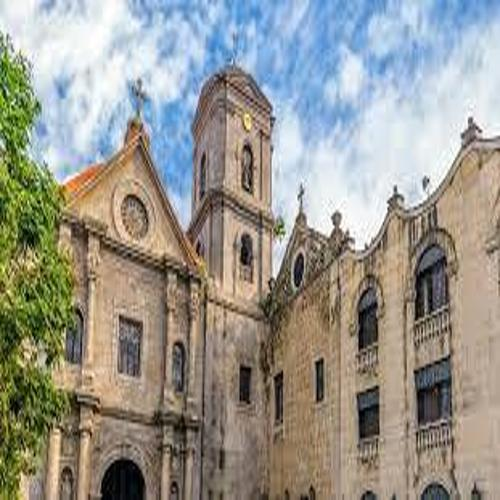San Agustin Church: (18, 27, 271, 500)
